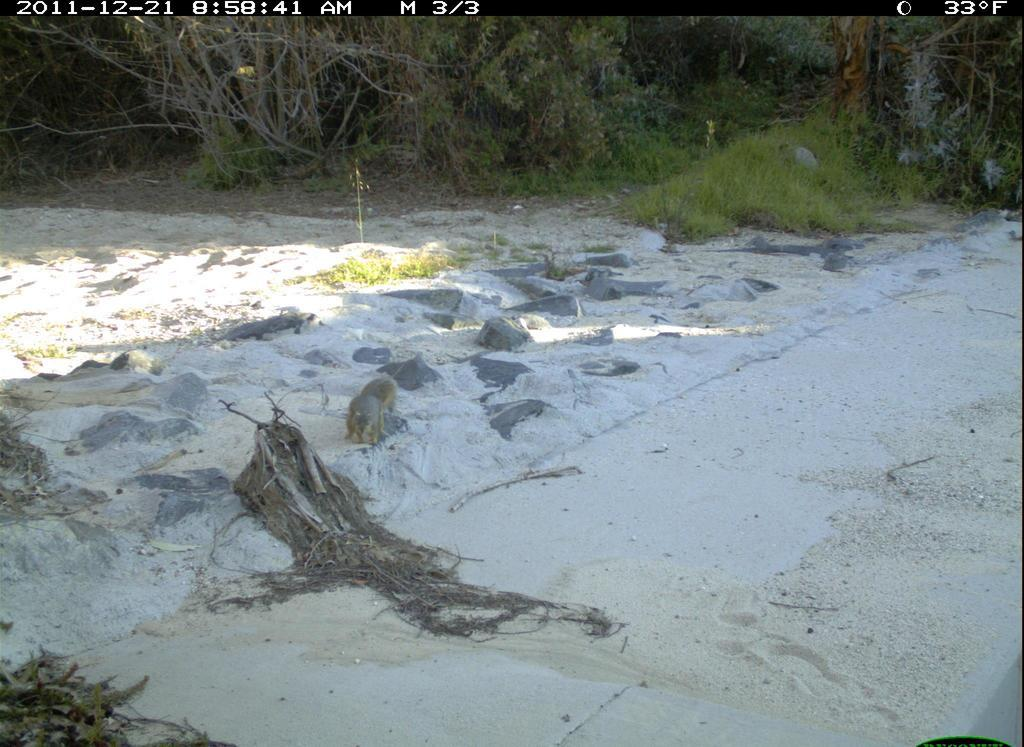squirrel: (340, 369, 413, 451)
